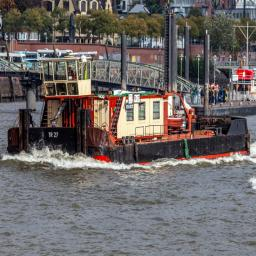tugboat: (6, 42, 254, 175)
